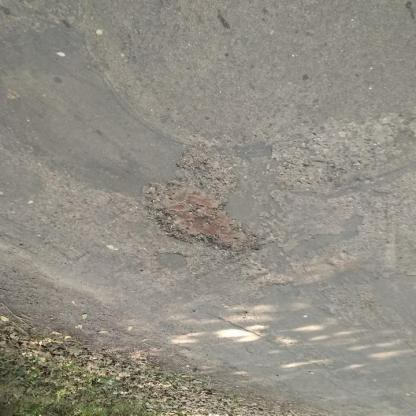pothole: (147, 179, 267, 257)
